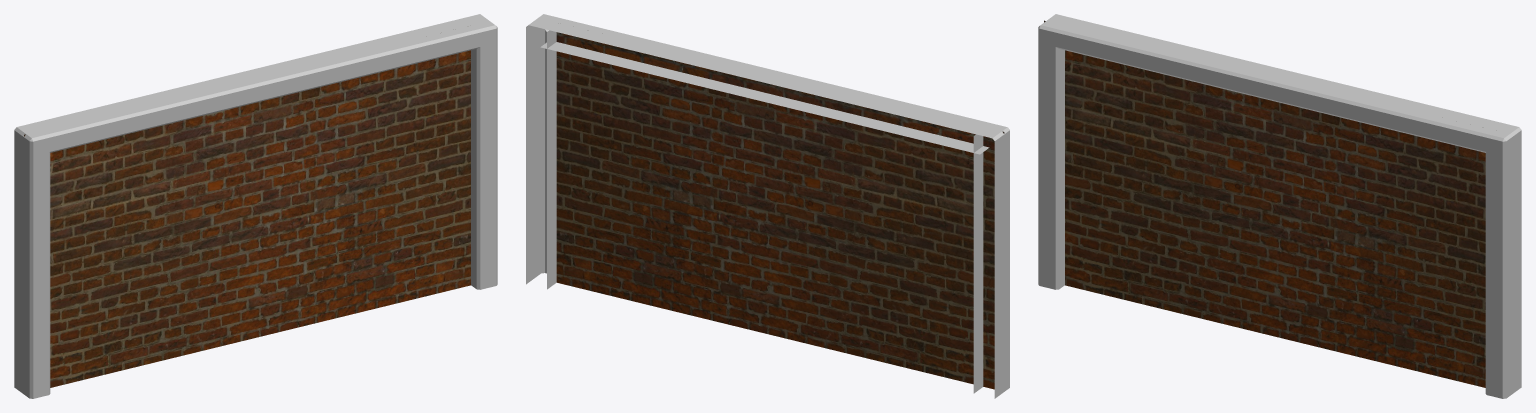
File: Batiment_1_mur_vide.FBX
The picture shows the model from 3 angles, left to right: view 1: azimuth 30°, elevation 25°; view 2: azimuth 150°, elevation 25°; view 3: azimuth 330°, elevation 25°; orthographic projection.
Parts seen in each view (by area): view 1: Object003; view 2: Object003; view 3: Object003.
Boxes of the visible parts, x1=… form: Object003: x1=14, y1=14, x2=497, y2=398; Object003: x1=526, y1=14, x2=1009, y2=398; Object003: x1=1038, y1=14, x2=1521, y2=398.
Size of the model in its own units: 315 by 19.35 by 167.
